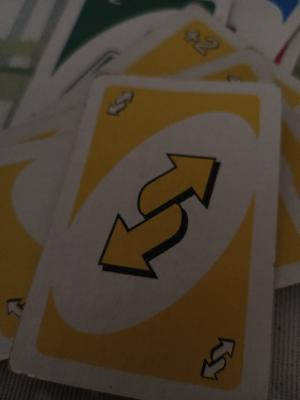reverse: (192, 333, 241, 382), (104, 90, 136, 120)
yellow: (99, 92, 258, 383)
